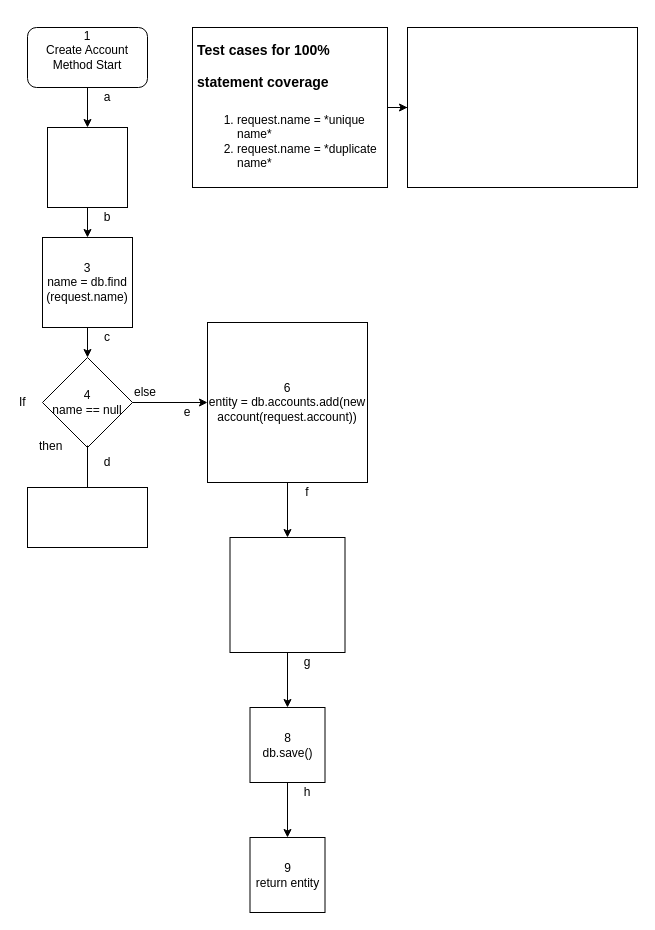
The diagram is 655 pixels wide and 930 high, and some of its shapes have lost their labels. The shapes that lost their labels are listed below. From the top down, each one's centre as x and y in pixels, then its label:
[522,107]: Paths for 100% decision coverage 1a-2b-3c-4e-6f-7g-8h-9 1a-2b-3c-4d-5
[87,167]: 2 read var request
[87,517]: 5 throw duplicate name exception
[287,594]: 7 entity.address = new address() entity.cart = new cart()
